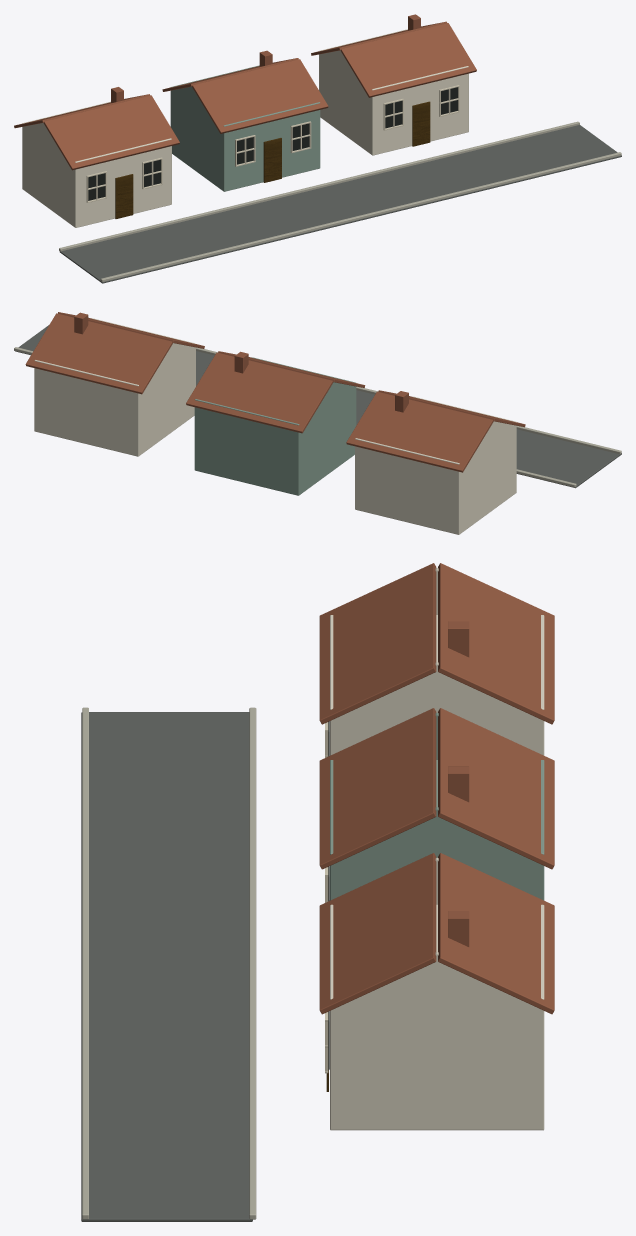
File: SM_NeighborhoodVista.glb
The picture shows the model from 3 angles, top to bottom: view 1: azimuth 30°, elevation 25°; view 2: azimuth 150°, elevation 25°; view 3: azimuth 270°, elevation 25°; orthographic projection. The views are drawn at different scales.
Parts seen in each view (by area): view 1: SM_NeighborhoodVista; view 2: SM_NeighborhoodVista; view 3: SM_NeighborhoodVista.
Part boxes in pixels (<box>): SM_NeighborhoodVista: <box>14,14,621,283</box>; SM_NeighborhoodVista: <box>14,312,621,534</box>; SM_NeighborhoodVista: <box>81,563,554,1221</box>.
Bounding box in the file's own units: 28 × 5.07 × 11.04.
Materials: 8 (1 with a texture image).
